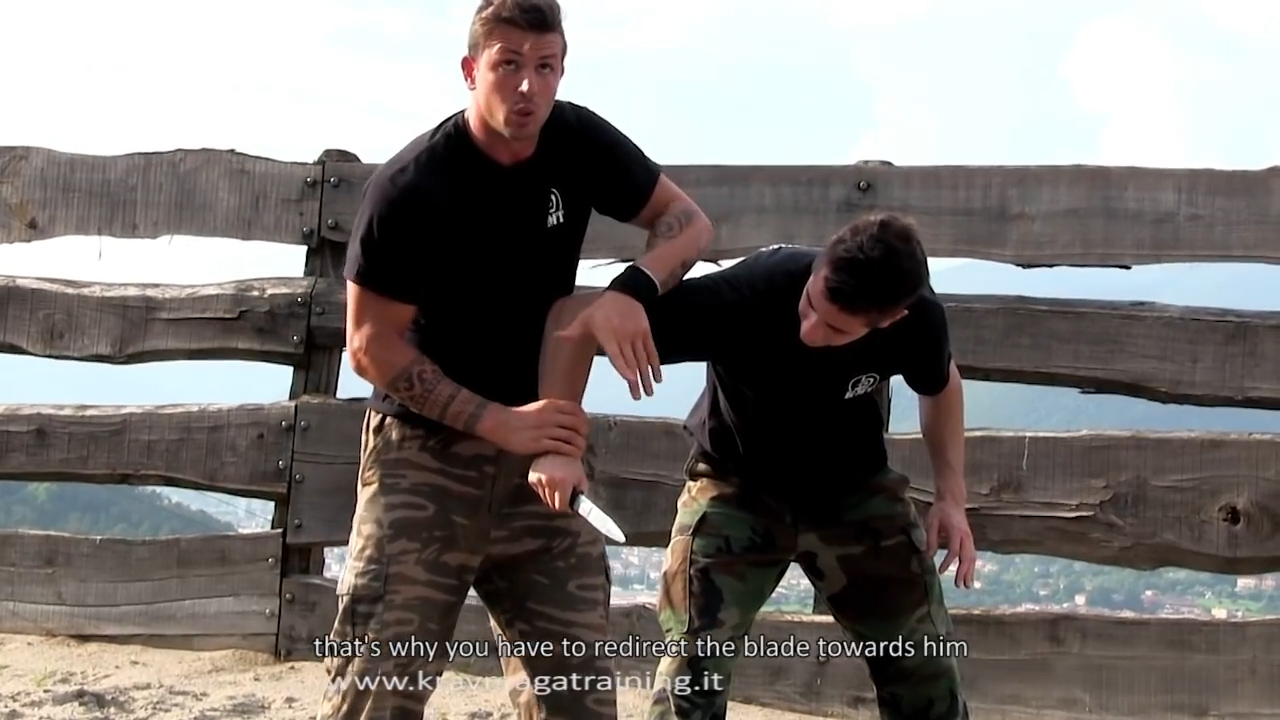knife: (524, 461, 634, 550)
